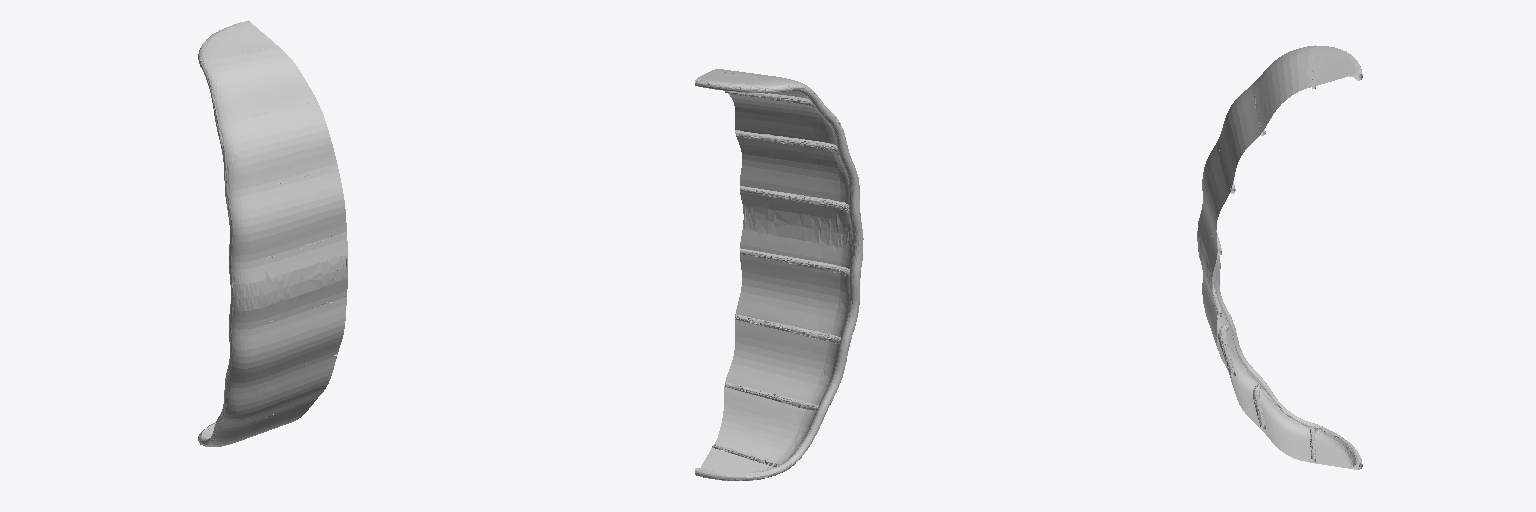
File: kite_large.obj
3 views of the same model, side by side, from view 1: azimuth 30°, elevation 25°; view 2: azimuth 150°, elevation 25°; view 3: azimuth 270°, elevation 25° (orthographic).
Bounding box in the file's own units: 29.92 × 95.07 × 35.86.